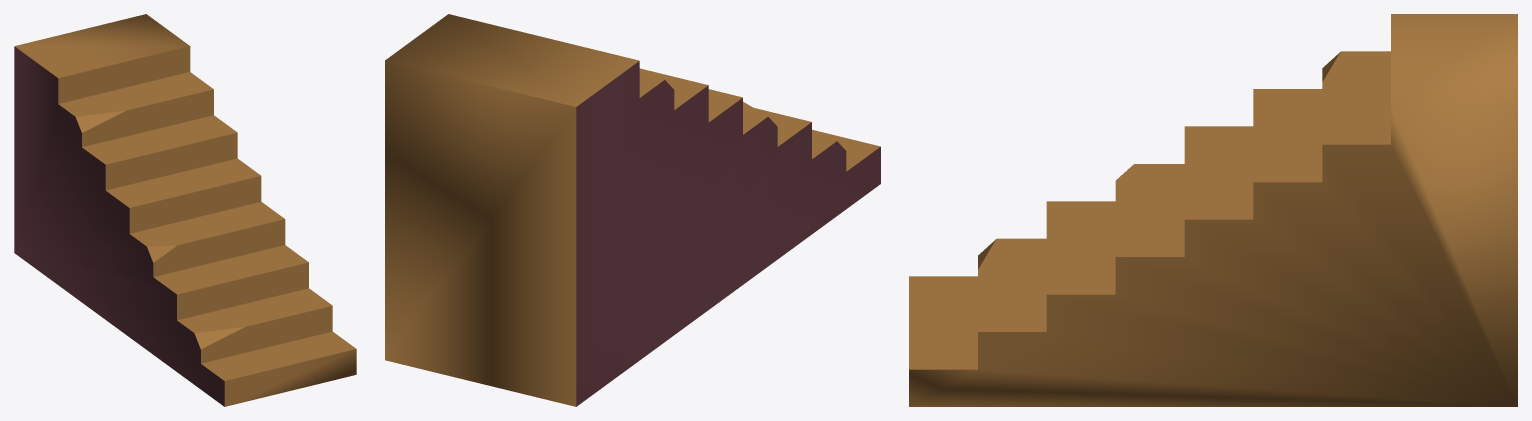
The model's file is escalier.fbx.
The picture shows the model from 3 angles, left to right: view 1: azimuth 30°, elevation 25°; view 2: azimuth 150°, elevation 25°; view 3: azimuth 270°, elevation 25°; orthographic projection. The views are drawn at different scales.
Parts seen in each view (by area): view 1: house-egypt-medium; view 2: house-egypt-medium; view 3: house-egypt-medium.
Boxes of the visible parts, x1,y1,x2,y2 form: house-egypt-medium: [14, 14, 356, 406]; house-egypt-medium: [385, 14, 880, 406]; house-egypt-medium: [909, 14, 1517, 406].
Size of the model in its own units: 200 by 300 by 552.
